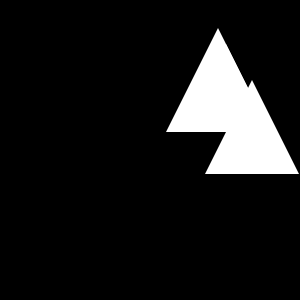triangle: (166, 28, 270, 132), (205, 80, 299, 174), (192, 44, 260, 112)
